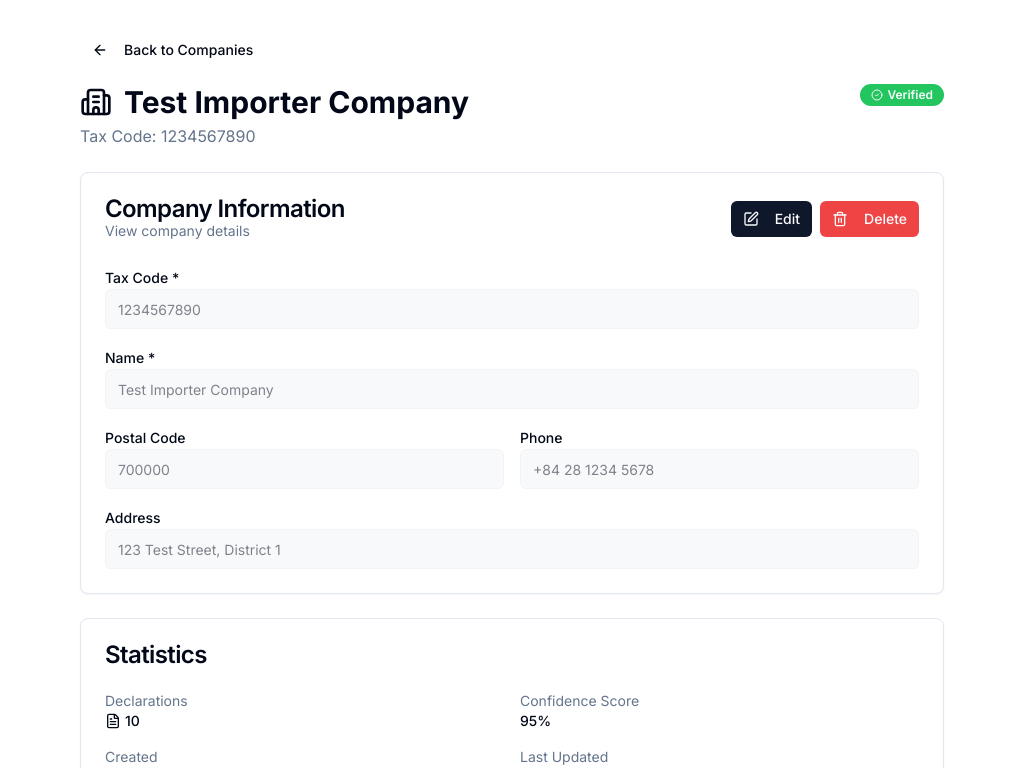
Test case: CompanyDetailsPage › Edit Mode › enables form inputs when Edit button clicked
Click the button "Edit": [771, 219] box [731,201,812,237]
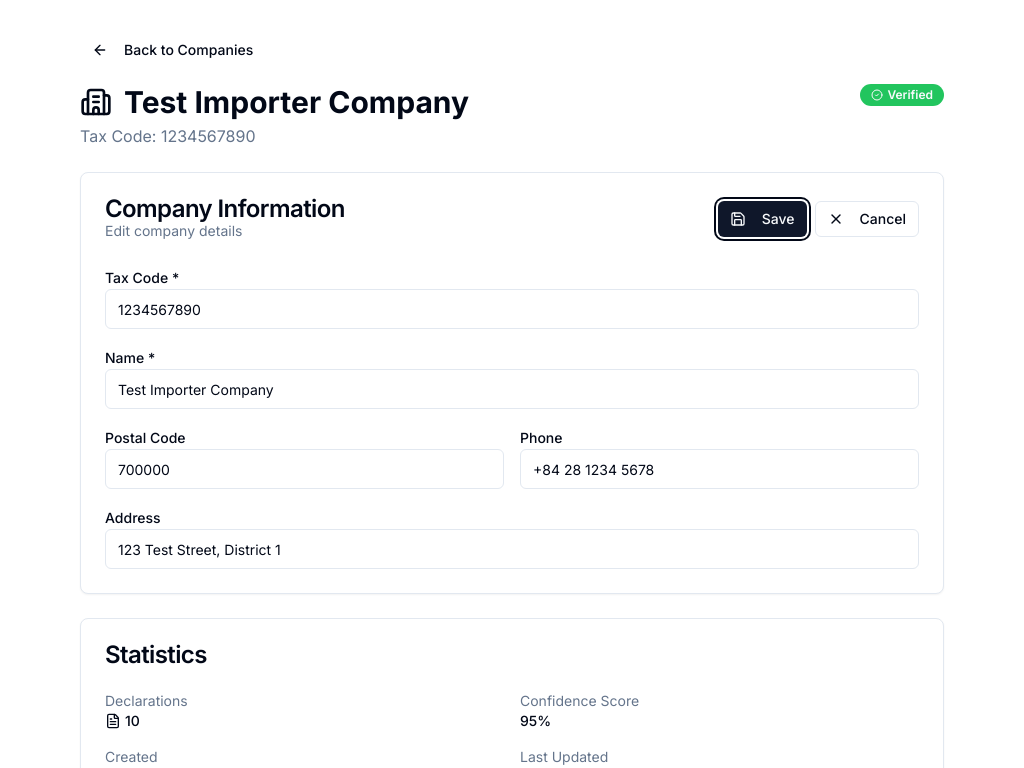
Now the field labelled "Name *" is enabled, box [105,369,919,409]
